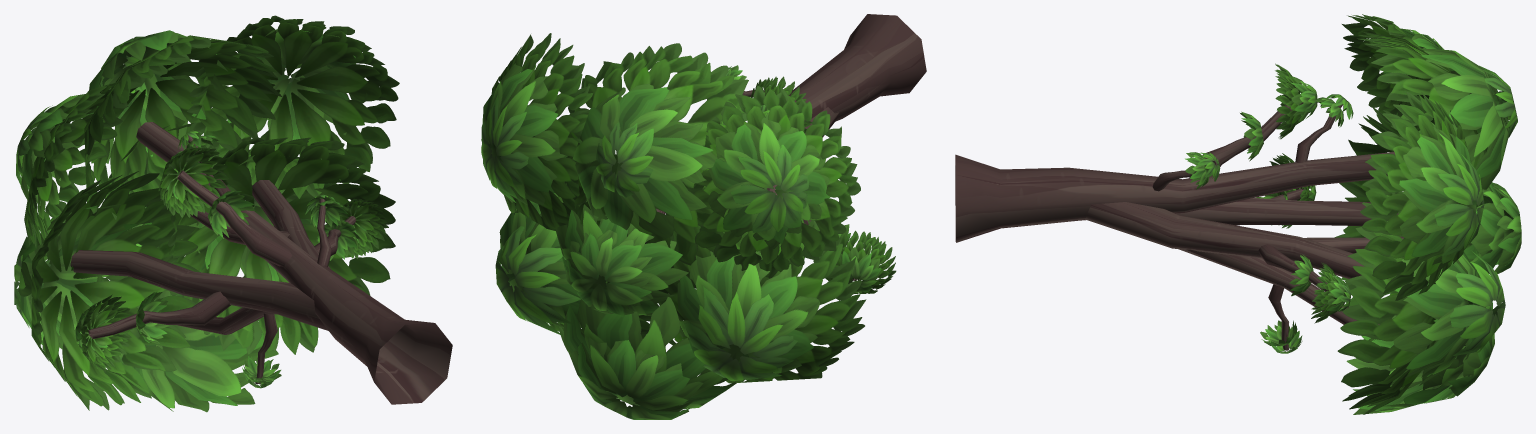
File: ASSETMODEL_ARBOLG_R.fbx
3 renders of one model, left to right at view 1: azimuth 30°, elevation 25°; view 2: azimuth 150°, elevation 25°; view 3: azimuth 270°, elevation 25°, orthographic. The views are drawn at different scales.
Parts seen in each view (by area): view 1: Sphere.082; view 2: Sphere.082; view 3: Sphere.082.
Part boxes in pixels (x1=…): Sphere.082: x1=14, y1=15, x2=452, y2=412; Sphere.082: x1=481, y1=14, x2=926, y2=419; Sphere.082: x1=955, y1=14, x2=1521, y2=414.
Size of the model in its own units: 836 by 791 by 1128.
1 material, 1 textured.
